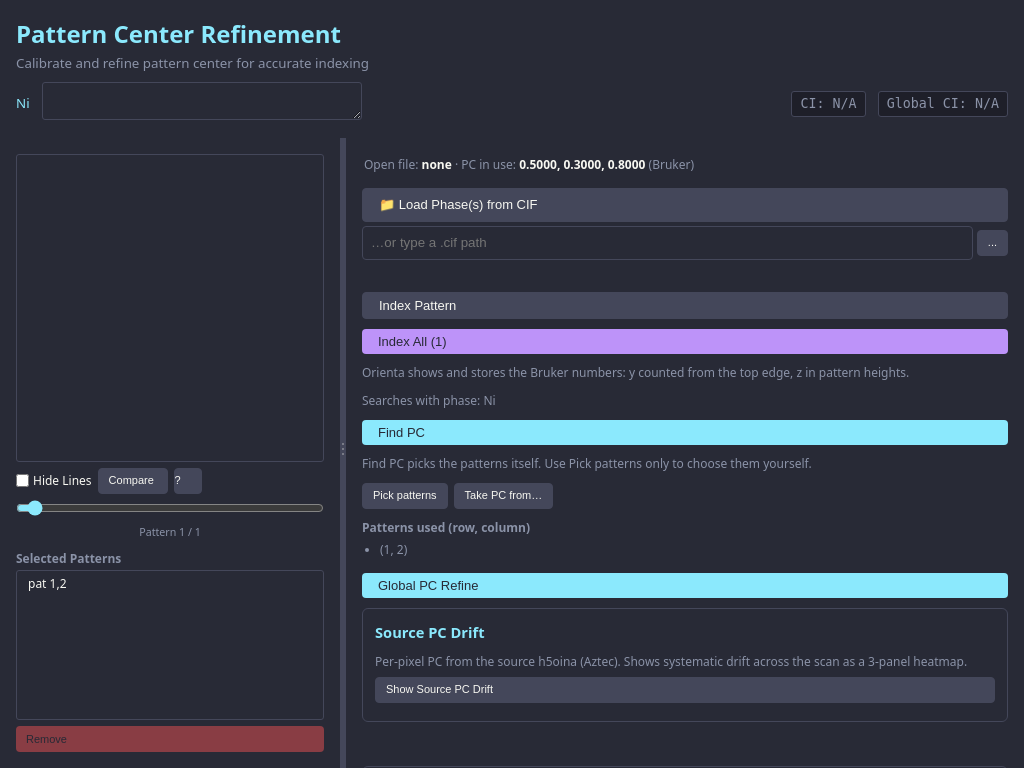
Test case: forward preview for a phase without a master of its own › takes the phase's own master and shows no placeholder
Step 1. Click the element titled "Pattern at row 1, col 2" → (47, 584), box [28,575,66,592]
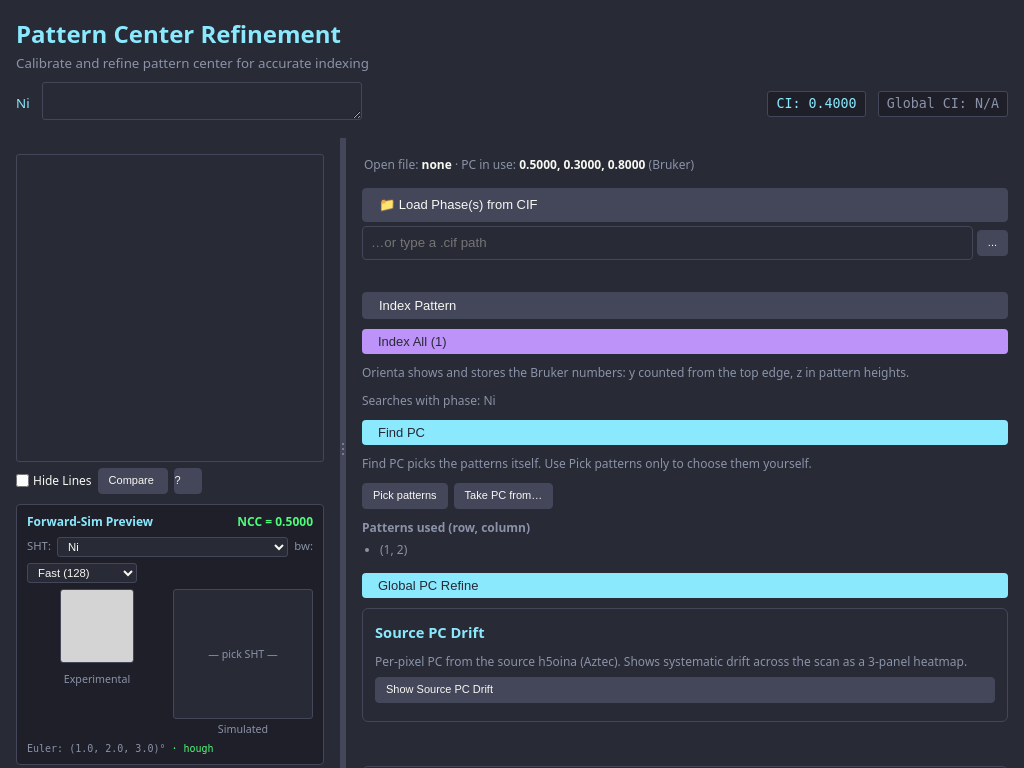
expect the dropdown titled "forward-simulate the EBSD pattern" shows "Ni": met, box [57,537,288,557]
